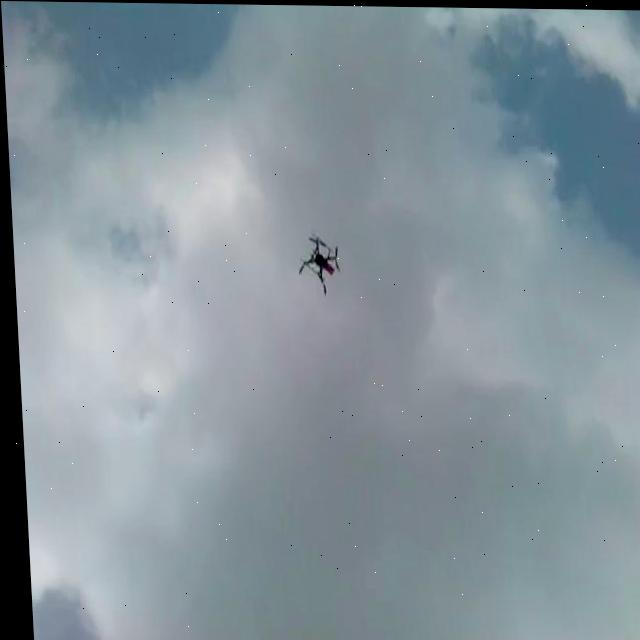drone: (292, 226, 341, 297)
